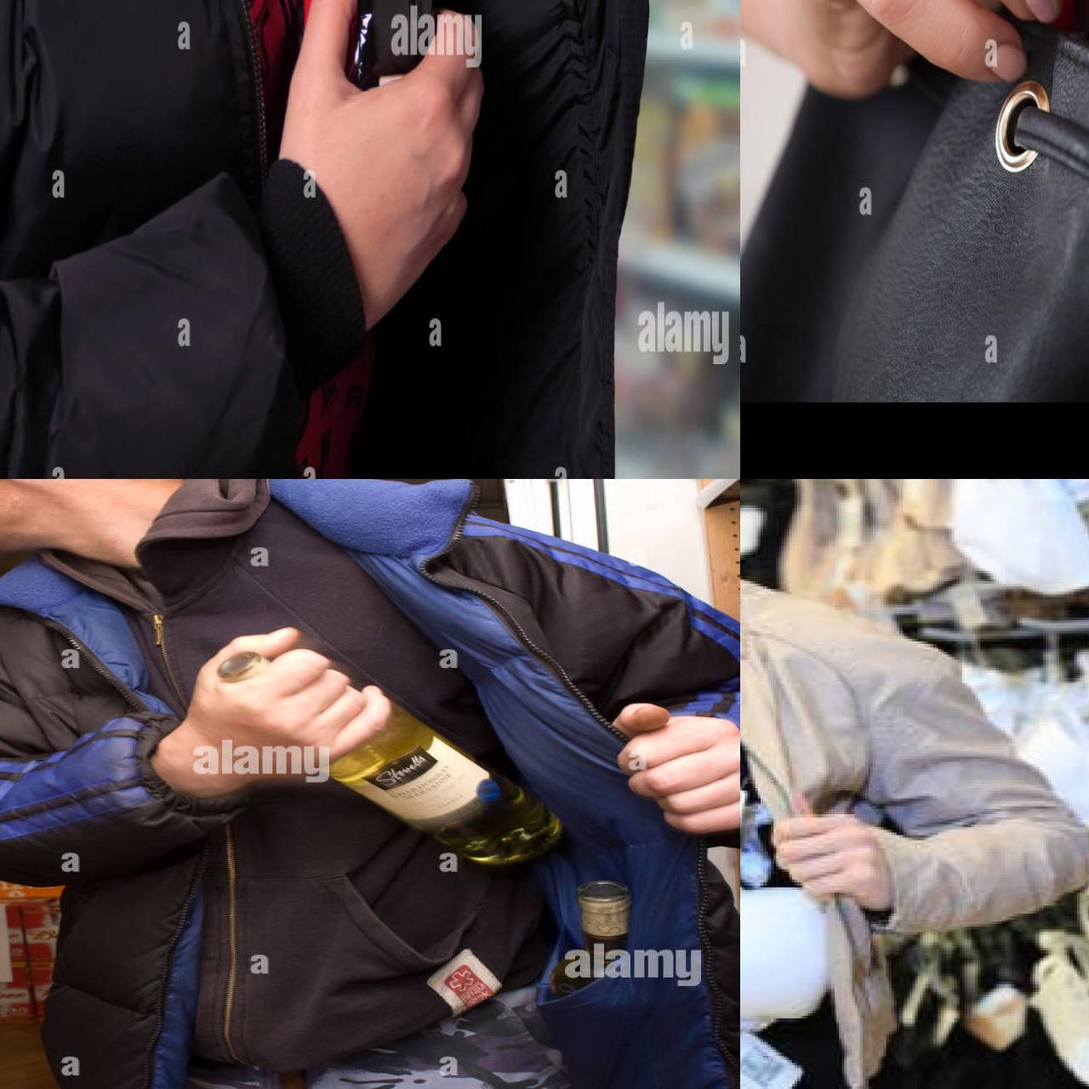shoplifting: (135, 620, 722, 1038)
